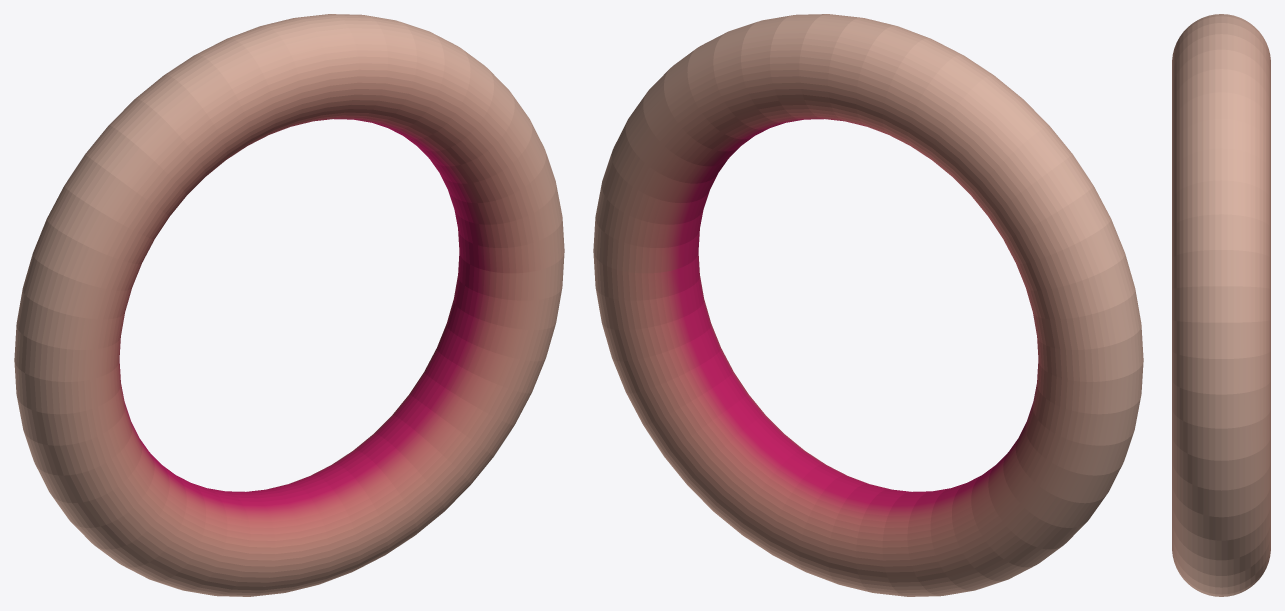
The picture shows the model from 3 angles, left to right: view 1: azimuth 30°, elevation 25°; view 2: azimuth 150°, elevation 25°; view 3: azimuth 270°, elevation 25°; orthographic projection. The views are drawn at different scales.
Visible parts, largest first — view 1: world; view 2: world; view 3: world.
Boxes of the visible parts, x1,y1,x2,y2 form: world: (14,14,564,596); world: (593,14,1143,596); world: (1172,14,1270,596).
Bounding box in the file's own units: 33.73 × 33.67 × 5.72.
